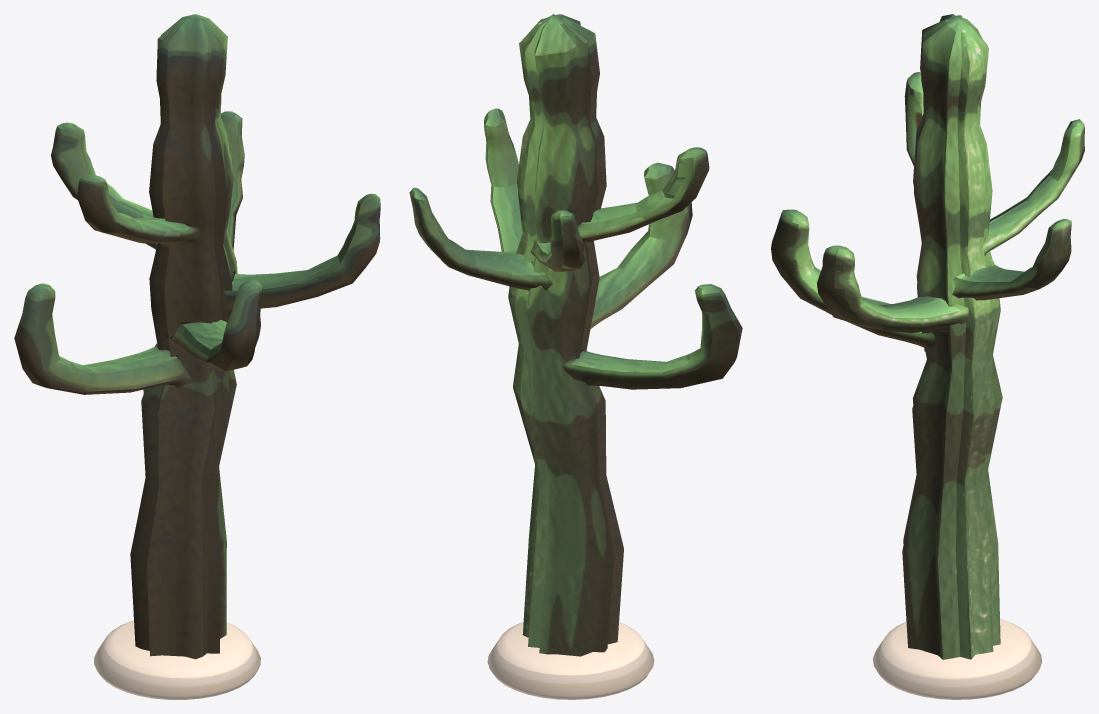
Rendered from SaguaroCactus.glb.
3 views of the same model, side by side, from view 1: azimuth 30°, elevation 25°; view 2: azimuth 150°, elevation 25°; view 3: azimuth 270°, elevation 25° (orthographic).
Parts seen in each view (by area): view 1: 墩子gltf; view 2: 墩子gltf; view 3: 墩子gltf.
Part boxes in pixels (bbox=[...]): 墩子gltf: bbox=[14, 14, 380, 699]; 墩子gltf: bbox=[409, 14, 742, 699]; 墩子gltf: bbox=[771, 14, 1084, 699].
Size of what is drawn, in the model's own units: 2.31 by 4.62 by 2.01.
2 materials, 2 textured.
